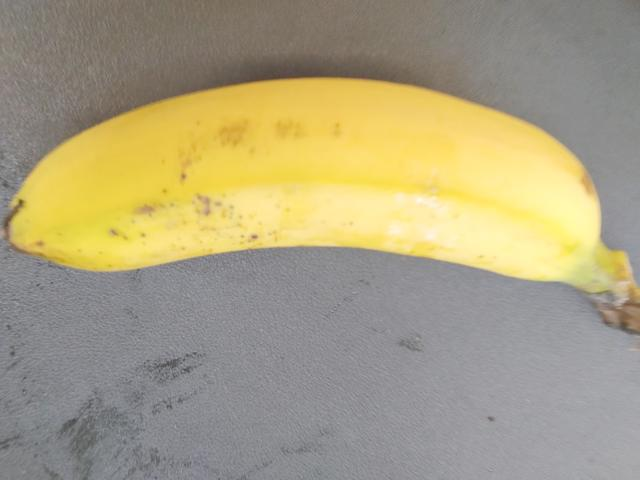ripe: (16, 63, 639, 327)
